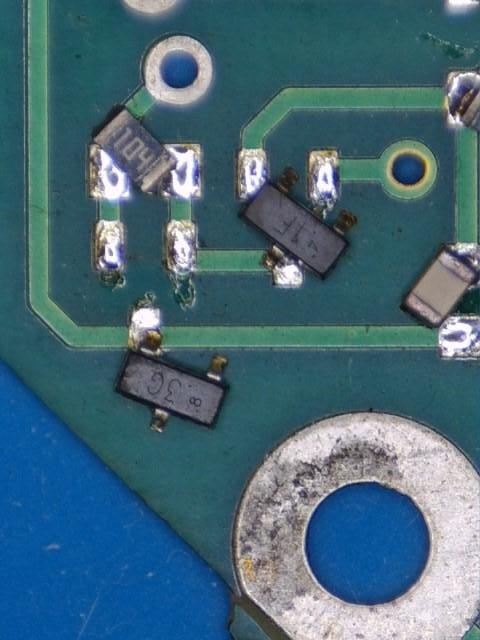pcb_defect: (237, 149, 358, 285), (113, 307, 229, 434), (87, 106, 202, 199), (401, 242, 480, 359), (446, 69, 480, 133)
